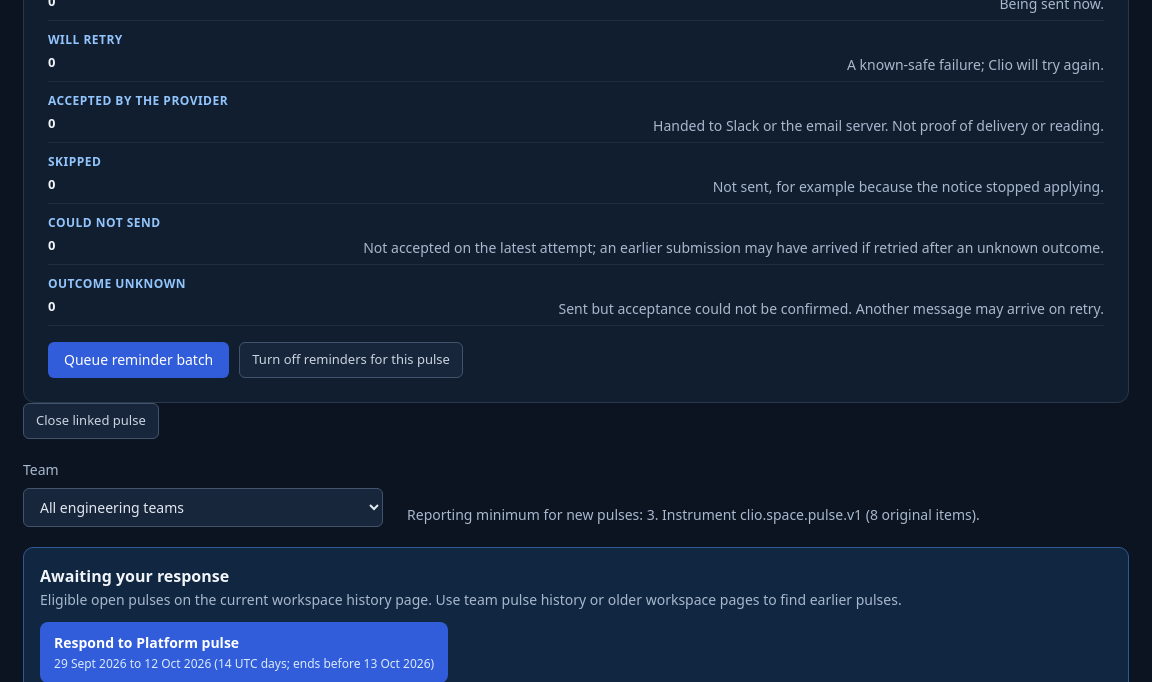
Scenario: unknown outcomes at the transport boundary › replays a reminder batch after a rejected fetch instead of generating a new request
(page scrolled)
Click the button "Queue reminder batch": (139, 360) x1=48 y1=342 x2=229 y2=378
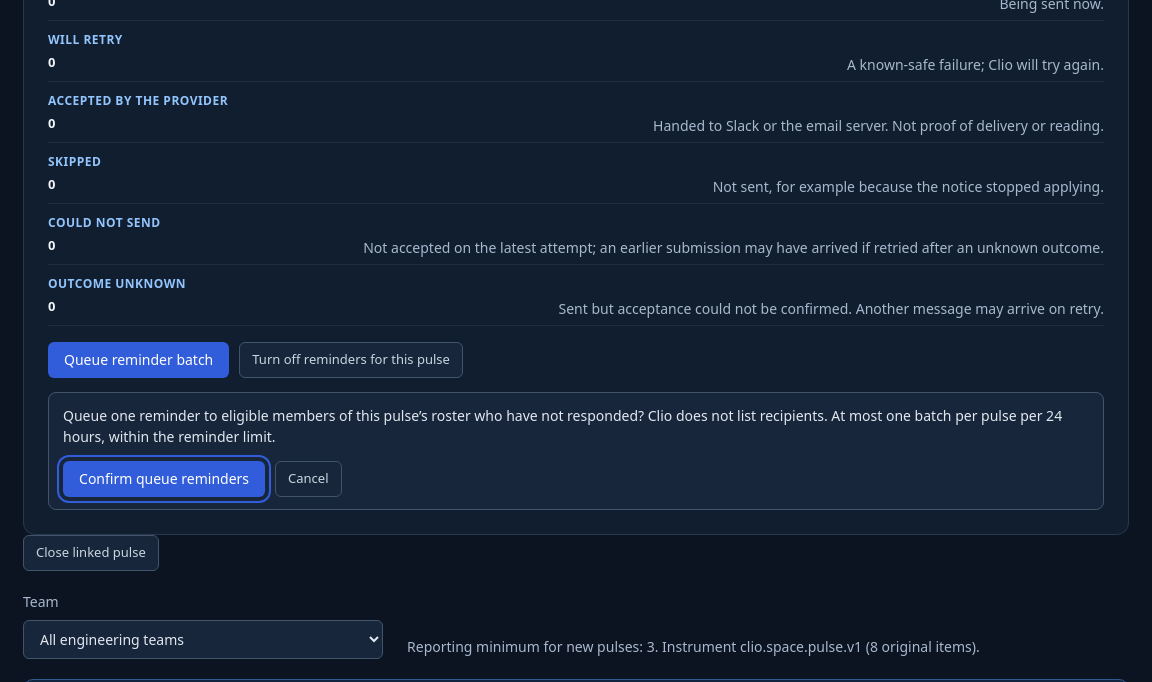
Click the button "Confirm queue reminders": (164, 479) x1=63 y1=461 x2=265 y2=497
(page scrolled)
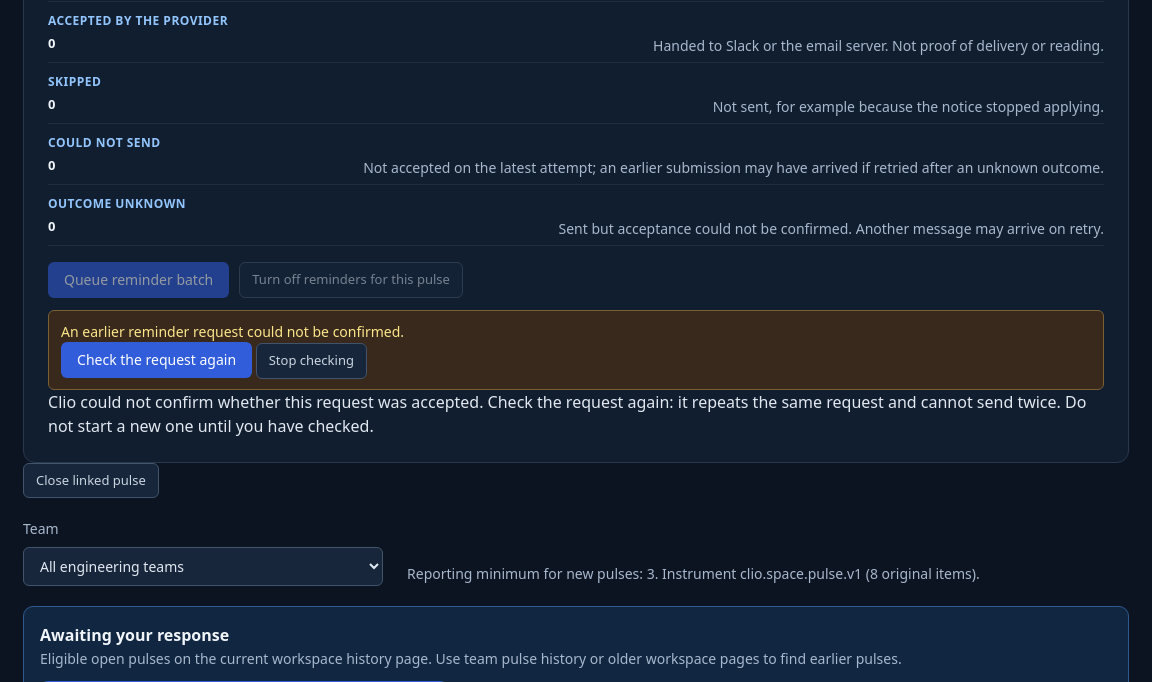
Click the button "Check the request again": (156, 360) x1=61 y1=342 x2=252 y2=378
(page scrolled)
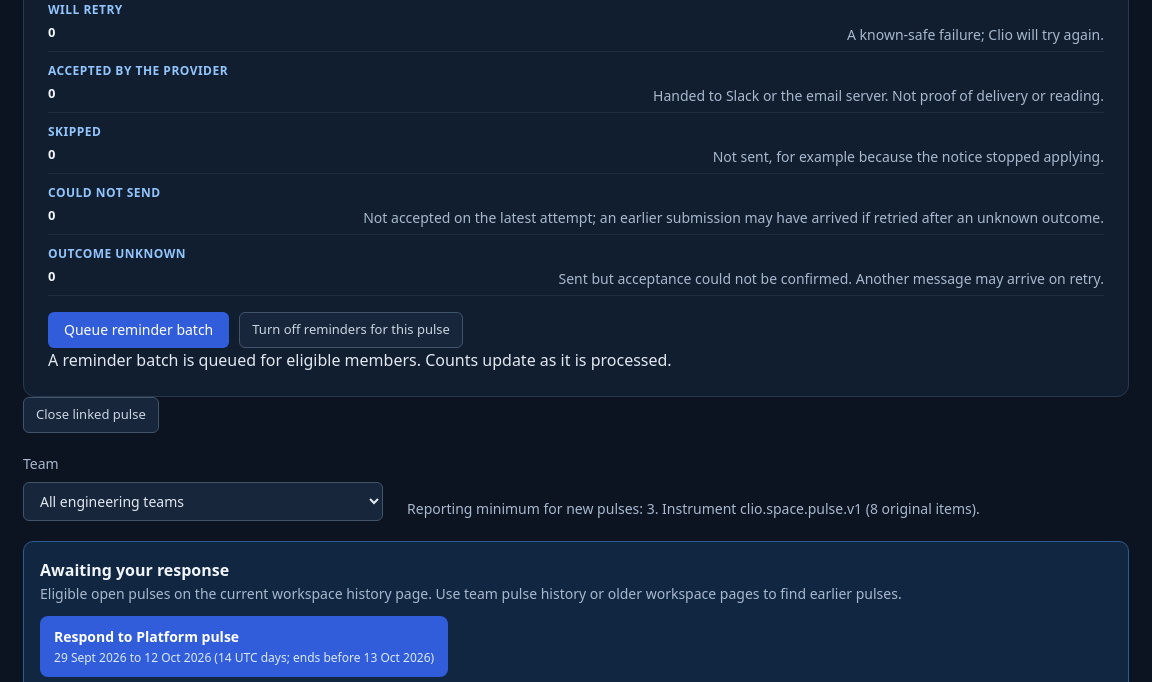
Expected: the text "reminder batch is queued" is shown, x1=48 y1=349 x2=672 y2=371
